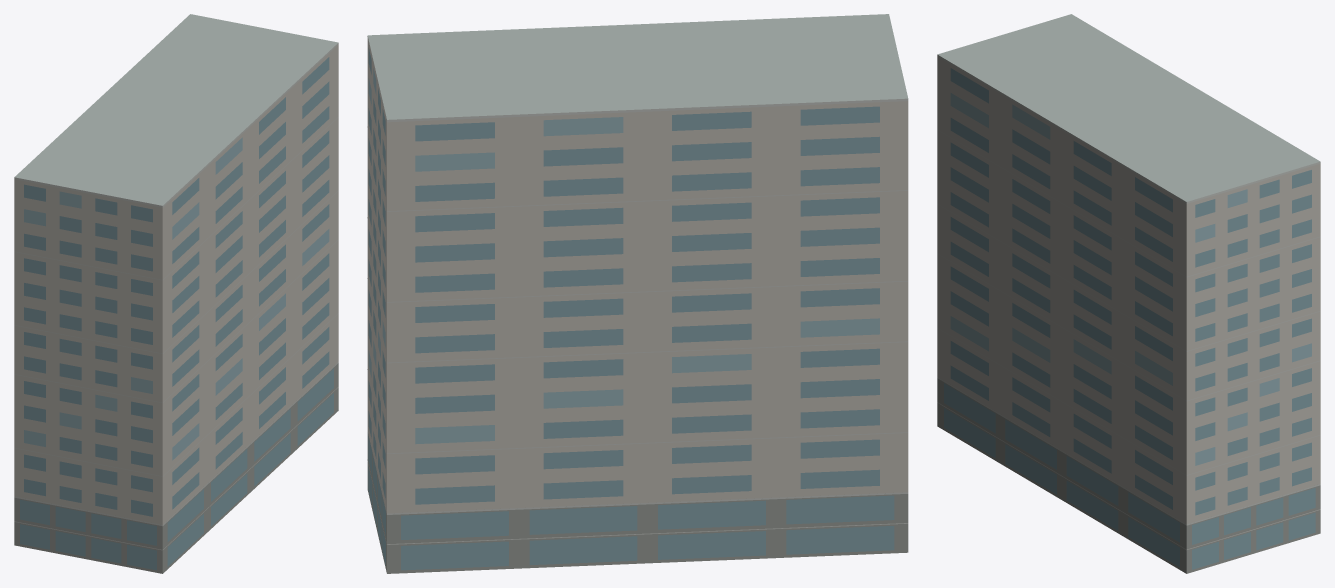
The model's file is residential-d7ed4c17-da37-4b37-9524-c43b72fd0df8.glb.
The picture shows the model from 3 angles, left to right: view 1: azimuth 30°, elevation 25°; view 2: azimuth 150°, elevation 25°; view 3: azimuth 270°, elevation 25°; orthographic projection. The views are drawn at different scales.
Parts seen in each view (by area): view 1: residential-d7ed4c17-da37-4b37-9524-c43b72fd0df8.tmp; view 2: residential-d7ed4c17-da37-4b37-9524-c43b72fd0df8.tmp; view 3: residential-d7ed4c17-da37-4b37-9524-c43b72fd0df8.tmp.
Part boxes in pixels (box(x1,y1,x2,y2)): residential-d7ed4c17-da37-4b37-9524-c43b72fd0df8.tmp: box(14, 14, 338, 573); residential-d7ed4c17-da37-4b37-9524-c43b72fd0df8.tmp: box(367, 14, 908, 573); residential-d7ed4c17-da37-4b37-9524-c43b72fd0df8.tmp: box(937, 14, 1320, 573).
Bounding box in the file's own units: 49.63 × 45.75 × 42.76.
